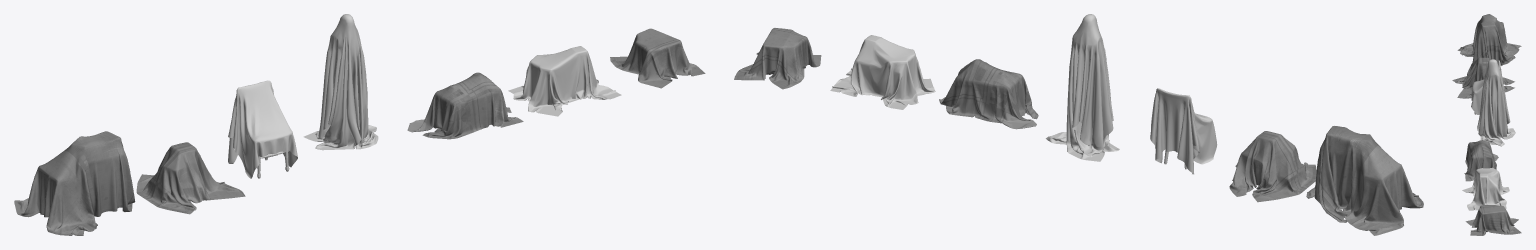
The model's file is furniture_decor_sculpture_8mb.obj.
3 renders of one model, left to right at view 1: azimuth 30°, elevation 25°; view 2: azimuth 150°, elevation 25°; view 3: azimuth 270°, elevation 25°, orthographic. The views are drawn at different scales.
Visible parts, largest first — view 1: obj2, obj5, obj7, obj4, obj6, obj1, obj3; view 2: obj2, obj5, obj4, obj6, obj1, obj7, obj3; view 3: obj5, obj2, obj6, obj3, obj4, obj1, obj7.
Part boxes in pixels (left/top/right/bottom): obj2: left=14, top=131, right=135, bottom=235; obj5: left=303, top=14, right=378, bottom=150; obj7: left=228, top=80, right=297, bottom=178; obj4: left=407, top=72, right=523, bottom=139; obj6: left=508, top=46, right=621, bottom=116; obj1: left=136, top=142, right=245, bottom=214; obj3: left=610, top=28, right=705, bottom=88; obj2: left=1306, top=126, right=1423, bottom=235; obj5: left=1045, top=14, right=1119, bottom=161; obj4: left=939, top=59, right=1038, bottom=129; obj6: left=830, top=35, right=935, bottom=109; obj1: left=1229, top=131, right=1316, bottom=202; obj7: left=1150, top=88, right=1217, bottom=174; obj3: left=734, top=28, right=821, bottom=89; obj5: left=1477, top=59, right=1515, bottom=146; obj2: left=1457, top=14, right=1521, bottom=65; obj6: left=1462, top=167, right=1509, bottom=210; obj3: left=1465, top=205, right=1521, bottom=235; obj4: left=1464, top=140, right=1498, bottom=181; obj1: left=1452, top=57, right=1514, bottom=98; obj7: left=1471, top=60, right=1501, bottom=114.
Size of the model in its own units: 12.5 by 2.31 by 1.91.
